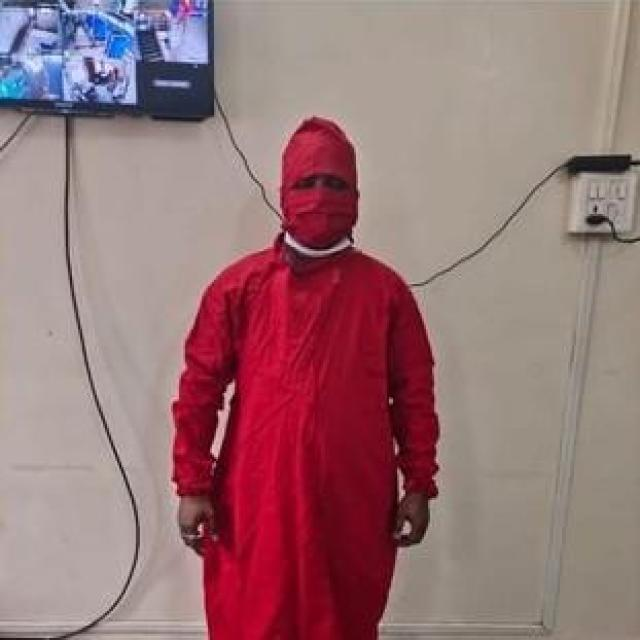Coverall: (165, 113, 447, 640)
Mask: (278, 183, 356, 247)
